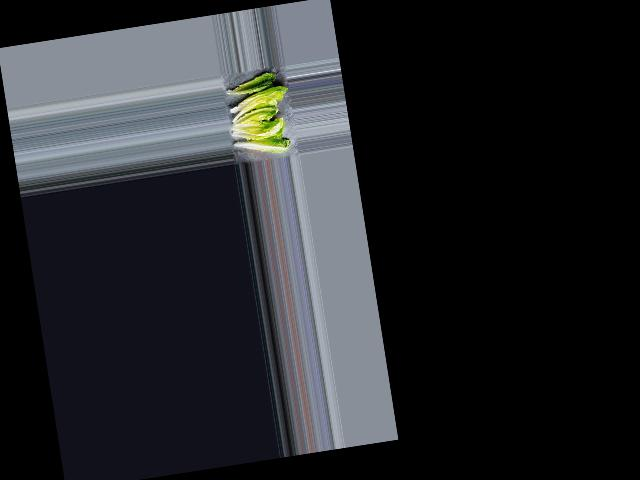lettuce: (222, 73, 277, 98)
